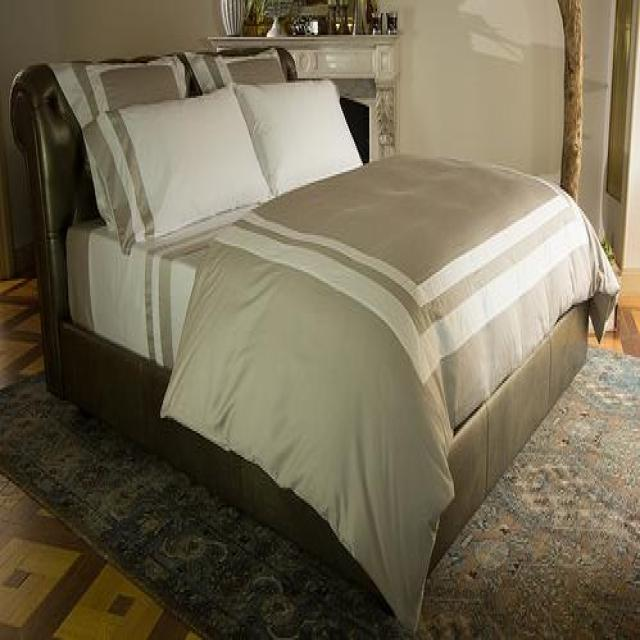bed: (9, 38, 619, 640)
